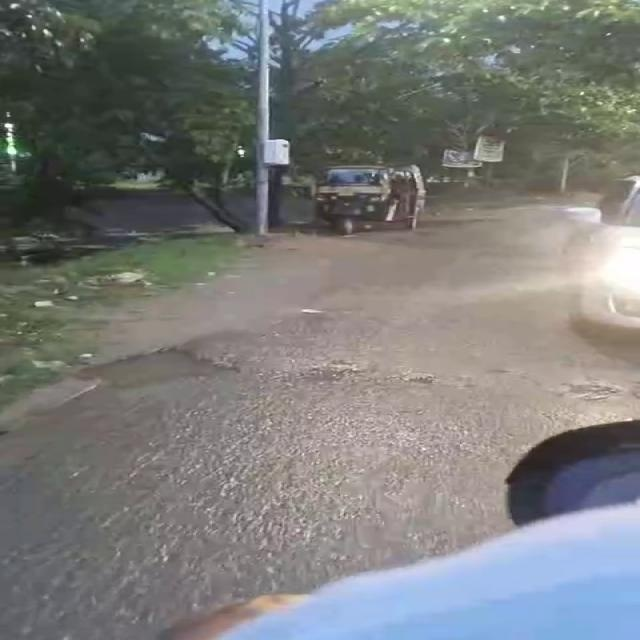pothole: (70, 344, 234, 394), (543, 378, 626, 404), (294, 356, 371, 384), (387, 370, 450, 388), (477, 366, 514, 377)
